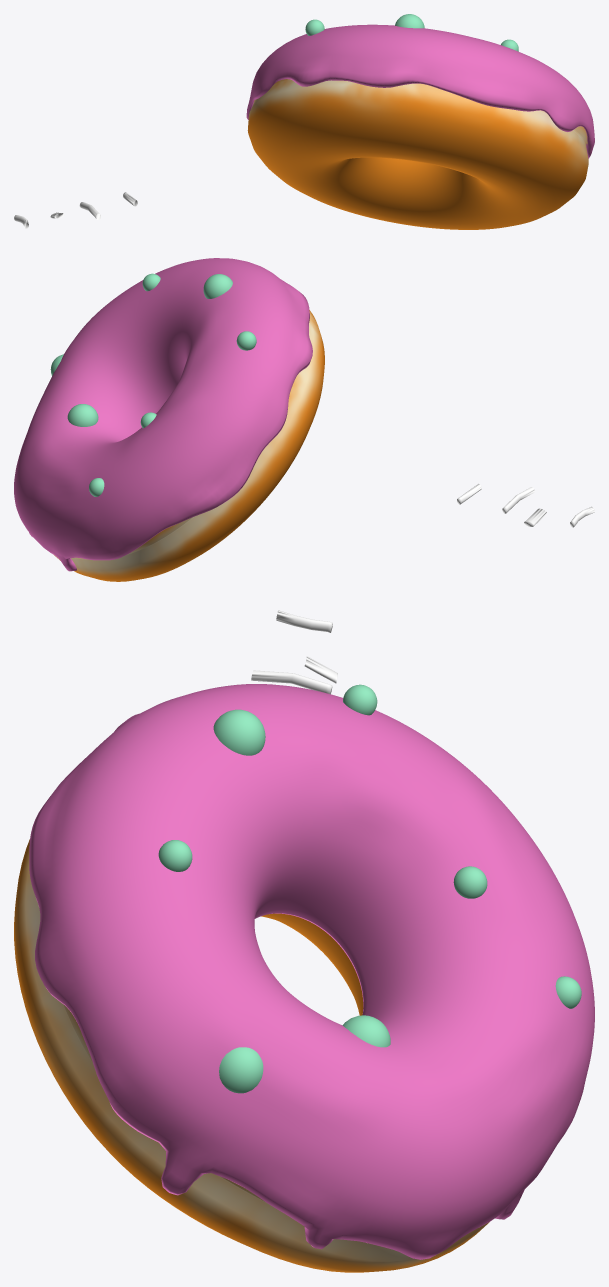
The model's file is learniingBlender.glb.
3 views of the same model, one above another, from view 1: azimuth 30°, elevation 25°; view 2: azimuth 150°, elevation 25°; view 3: azimuth 270°, elevation 25° (orthographic). The views are drawn at different scales.
Visible parts, largest first — view 1: donut, frosting, Sphere; view 2: frosting, donut, Sphere.001, Sphere; view 3: frosting, donut, Sphere, Sphere.006, Sphere.001, sprinkles.001, Sphere.004, Sphere.005.
Boxes of the visible parts, x1,y1,x2,y2 form: donut: (247, 79, 588, 229); frosting: (246, 24, 594, 158); Sphere: (395, 14, 424, 28); frosting: (14, 258, 312, 571); donut: (54, 310, 324, 581); Sphere.001: (67, 404, 98, 426); Sphere: (203, 274, 232, 298); frosting: (29, 684, 594, 1259); donut: (14, 839, 489, 1272); Sphere: (213, 709, 265, 755); Sphere.006: (219, 1047, 263, 1093); Sphere.001: (342, 1015, 390, 1047); sprinkles.001: (251, 670, 332, 694); Sphere.004: (453, 866, 487, 898); Sphere.005: (158, 840, 192, 871).
Size of the model in its own units: 6.5 by 3.03 by 3.4.
Materials: 4 (1 with a texture image).
